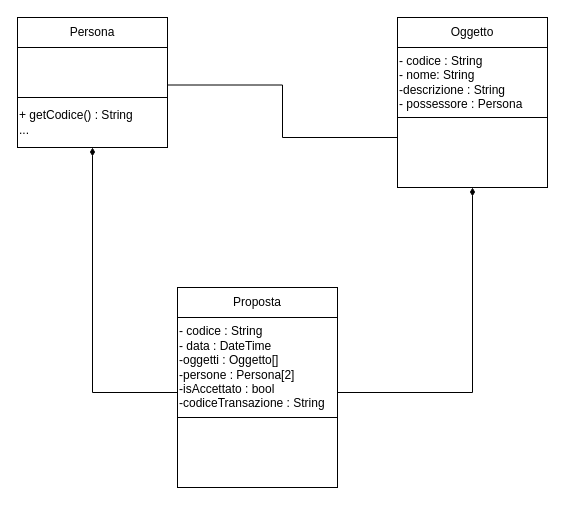
This 565x505 diagram has some shape labels left out. The shapes that lost their labels are listed below. From the top down, each one's centre as x and y in pixels, then its label:
point 92,72: - codice : String - nominativo : String
point 472,152: + getNome() : String + setNome() : void ...
point 257,452: + getCodice() : Oggetto[] +setOggetti() : void ...
